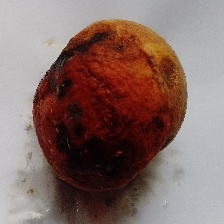guava: (36, 13, 198, 188)
